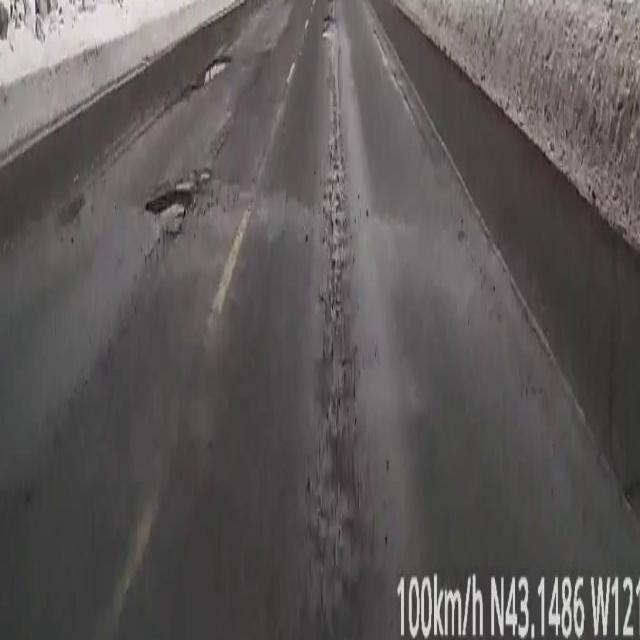pothole: (147, 170, 210, 235), (320, 0, 341, 44), (203, 52, 230, 84)
